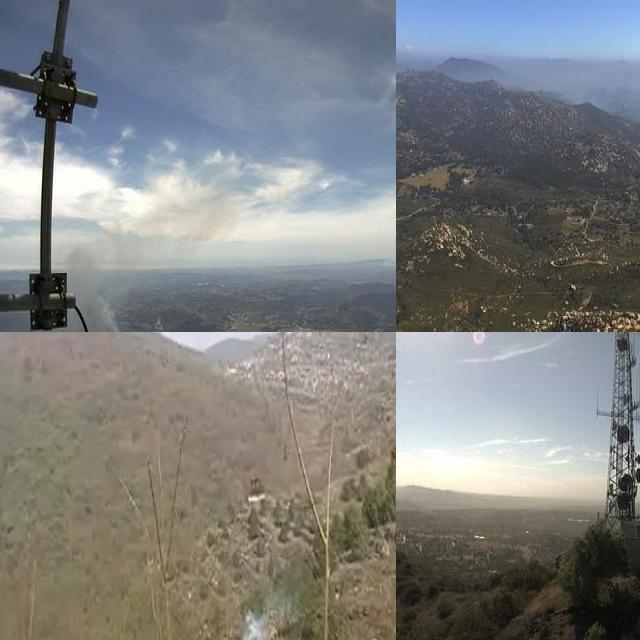smoke: (527, 58, 640, 140), (69, 246, 133, 332), (213, 590, 287, 640)
